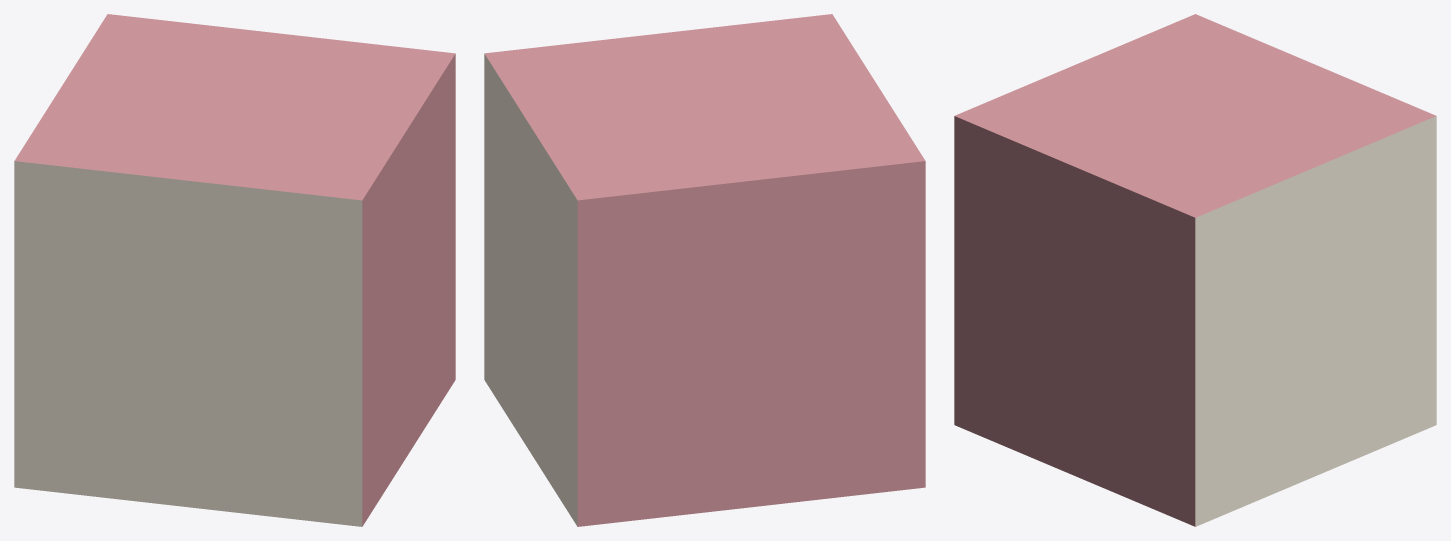
Rendered from MiniRoomBox.glb.
The picture shows the model from 3 angles, left to right: view 1: azimuth 30°, elevation 25°; view 2: azimuth 150°, elevation 25°; view 3: azimuth 270°, elevation 25°; orthographic projection. The views are drawn at different scales.
Parts seen in each view (by area): view 1: stage-mask; view 2: stage-mask; view 3: stage-mask.
Part boxes in pixels (x1,y1,x2,y2): stage-mask: (14, 14, 455, 526); stage-mask: (484, 14, 925, 526); stage-mask: (954, 14, 1436, 526).
Size of what is drawn, in the model's own units: 14.71 by 10.4 by 14.71.
